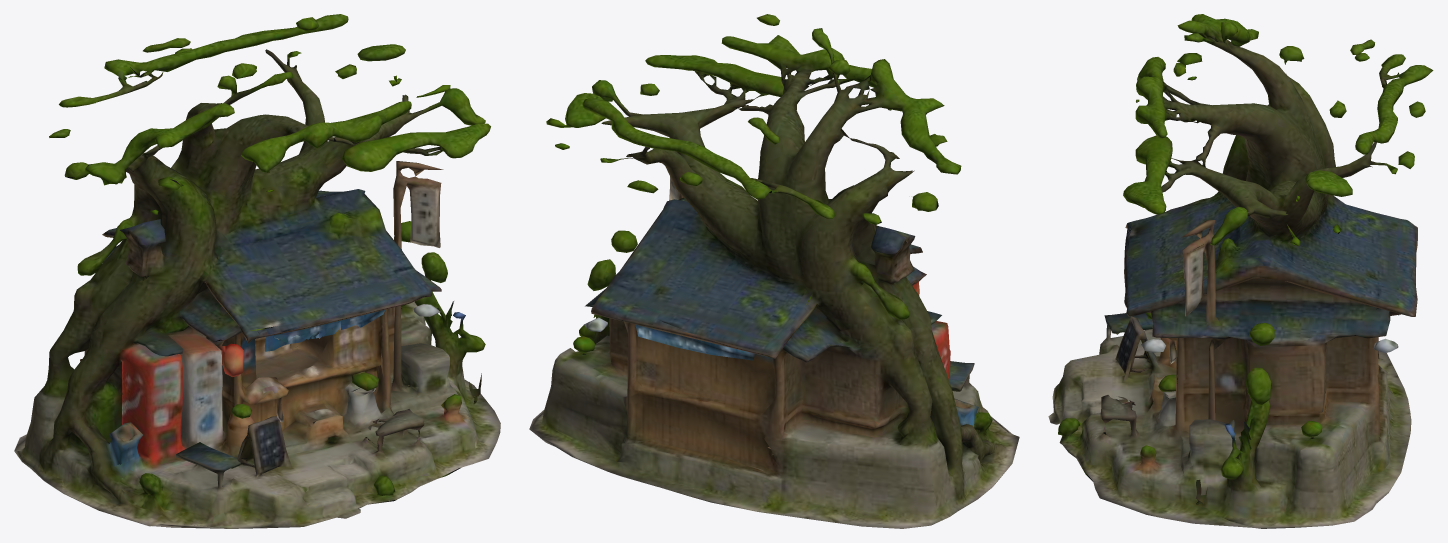
File: building16.glb
3 views of the same model, side by side, from view 1: azimuth 30°, elevation 25°; view 2: azimuth 150°, elevation 25°; view 3: azimuth 270°, elevation 25° (orthographic).
Visible parts, largest first — view 1: lo; view 2: lo; view 3: lo.
Part boxes in pixels (bbox=[...]): lo: bbox=[14, 14, 500, 528]; lo: bbox=[529, 14, 1019, 528]; lo: bbox=[1048, 14, 1433, 528].
Size of the model in its own units: 98.36 by 87.4 by 78.6.
Materials: 1 (1 with a texture image).
